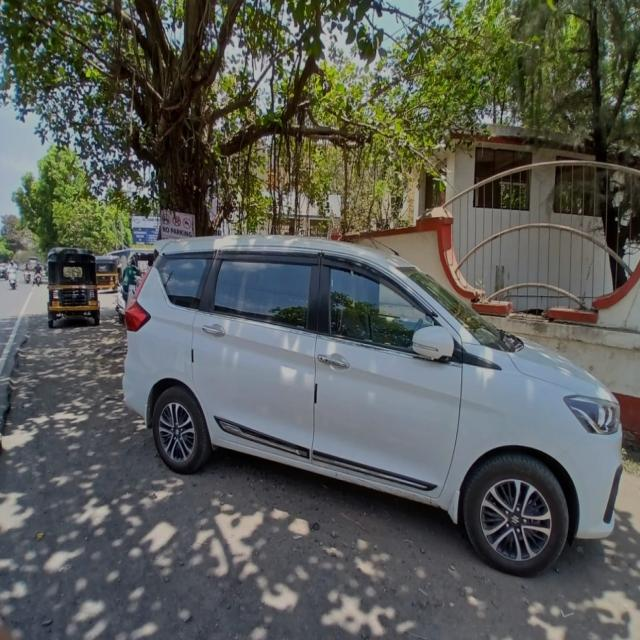illegalparking: (119, 214, 634, 610), (41, 239, 108, 348)
